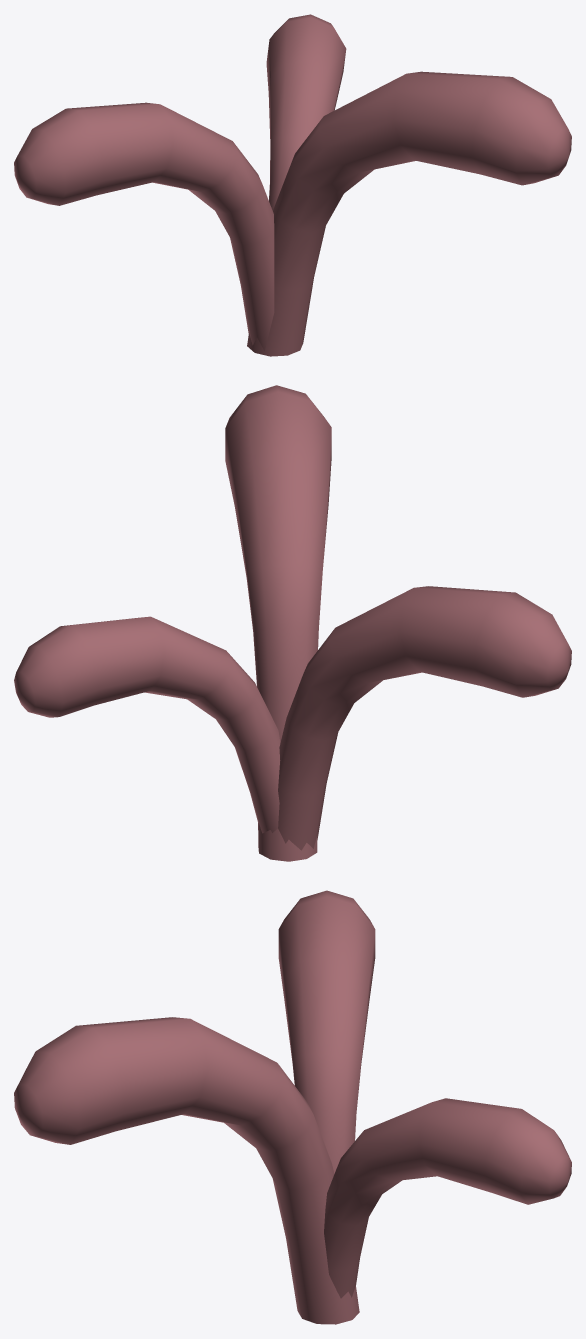
The model's file is rockyPlant_stage1.fbx.
3 views of the same model, one above another, from view 1: azimuth 30°, elevation 25°; view 2: azimuth 150°, elevation 25°; view 3: azimuth 270°, elevation 25° (orthographic). The views are drawn at different scales.
Visible parts, largest first — view 1: baby_rockyStem2, baby_rockyStem, baby_rockyStem1; view 2: baby_rockyStem, baby_rockyStem2, baby_rockyStem1; view 3: baby_rockyStem2, baby_rockyStem1, baby_rockyStem.
Part boxes in pixels (x1,y1,x2,y2): baby_rockyStem2: [247, 71, 571, 356]; baby_rockyStem: [14, 102, 274, 350]; baby_rockyStem1: [266, 14, 346, 210]; baby_rockyStem: [278, 586, 571, 850]; baby_rockyStem2: [225, 385, 331, 861]; baby_rockyStem1: [14, 616, 280, 833]; baby_rockyStem2: [14, 1017, 359, 1324]; baby_rockyStem1: [324, 1098, 571, 1298]; baby_rockyStem: [278, 890, 375, 1173].
Bounding box in the file's own units: 34.33 × 24.47 × 35.5.
